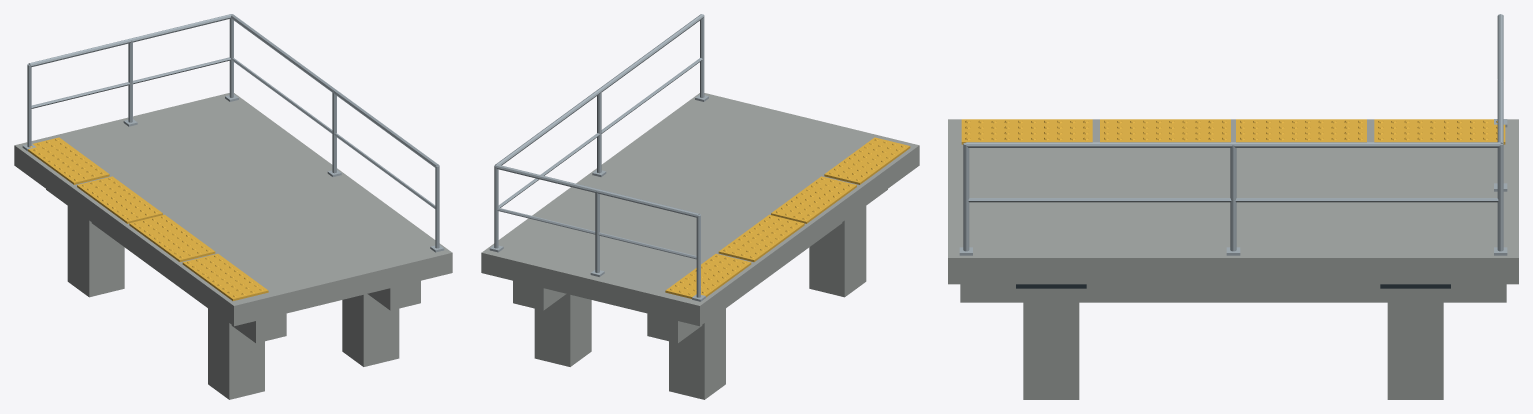
The model's file is b13_elevated_commuter_platform_end.glb.
The picture shows the model from 3 angles, left to right: view 1: azimuth 30°, elevation 25°; view 2: azimuth 150°, elevation 25°; view 3: azimuth 270°, elevation 25°; orthographic projection. The views are drawn at different scales.
Visible parts, largest first — view 1: b13_elevated_commuter_platform_end; view 2: b13_elevated_commuter_platform_end; view 3: b13_elevated_commuter_platform_end.
Boxes of the visible parts, left/top/right/bottom form: b13_elevated_commuter_platform_end: left=14, top=14, right=452, bottom=399; b13_elevated_commuter_platform_end: left=481, top=14, right=919, bottom=399; b13_elevated_commuter_platform_end: left=948, top=14, right=1518, bottom=399.
Bounding box in the file's own units: 2.7 × 2.43 × 4.7.
